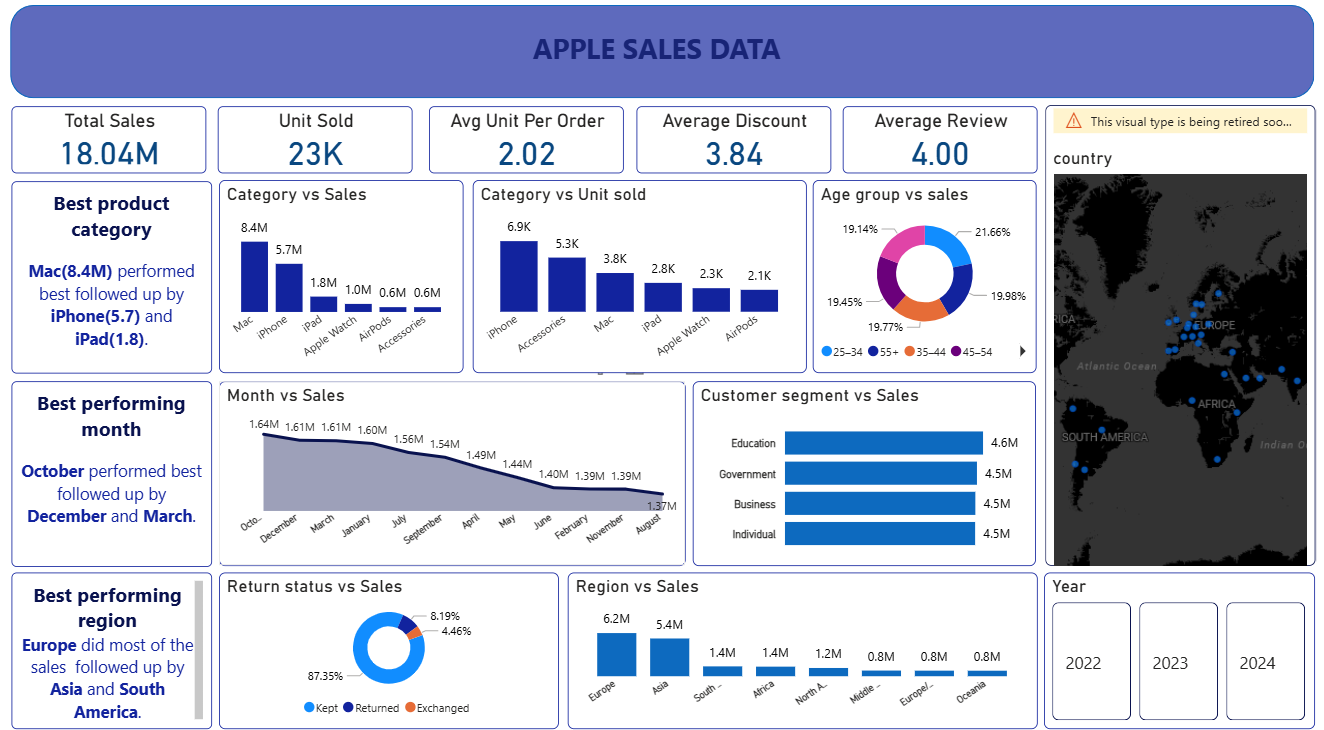

The dashboard page shown, as its layout file describes it:
{"tool":"powerbi","page":{"name":"Page 1","canvas":[1280,720],"ordinal":0},"visuals":[{"type":"card","title":"Total Sales","fields":{"Values":["Sum(apple_global_sales_dataset (1).revenue_usd)"]},"box":[12.2,112.2,187.8,64.4],"z":0},{"type":"textbox","box":[414.4,15.1,441.9,102.9],"z":1000},{"type":"shape","box":[11.2,15,1258.8,90],"z":2000},{"type":"card","title":"Average Review","fields":{"Values":["apple_global_sales_dataset (1).Average_rating"]},"box":[814,112,188,65],"z":3000},{"type":"card","title":"Average Discount","fields":{"Values":["apple_global_sales_dataset (1).Avg_discount"]},"box":[615,111.7,188.3,65],"z":4000},{"type":"card","title":"Unit Sold","fields":{"Values":["Sum(apple_global_sales_dataset (1).units_sold)"]},"box":[211.7,111.7,188.3,65],"z":5000},{"type":"card","title":"Avg Unit Per Order","fields":{"Values":["apple_global_sales_dataset (1).Avg_item_sold"]},"box":[415,111.7,188.3,65],"z":6000},{"type":"clusteredColumnChart","title":"Category vs Sales","fields":{"Category":["apple_global_sales_dataset (1).category"],"Y":["Sum(apple_global_sales_dataset (1).revenue_usd)"]},"box":[211.8,183.6,236.4,186.4],"z":7000},{"type":"clusteredColumnChart","title":"Region vs Sales","fields":{"Category":["apple_global_sales_dataset (1).region"],"Y":["Sum(apple_global_sales_dataset (1).revenue_usd)"]},"box":[548.9,562.2,453.3,151.1],"z":8000},{"type":"donutChart","title":"Age group vs sales","fields":{"Category":["apple_global_sales_dataset (1).customer_age_group"],"Y":["Sum(apple_global_sales_dataset (1).revenue_usd)"]},"box":[785.5,183.6,216.4,186.4],"z":9000},{"type":"areaChart","title":"Month vs Sales","fields":{"Category":["apple_global_sales_dataset (1).month"],"Y":["Sum(apple_global_sales_dataset (1).revenue_usd)"]},"box":[211.8,377.3,450,178.2],"z":10000},{"type":"map","fields":{"Category":["apple_global_sales_dataset (1).country"]},"box":[1009.3,111.4,260.7,445],"z":11000},{"type":"clusteredBarChart","title":"Customer segment vs Sales","fields":{"Category":["apple_global_sales_dataset (1).customer_segment"],"Y":["Sum(apple_global_sales_dataset (1).revenue_usd)"]},"box":[670,377.5,331.2,178.8],"z":12000},{"type":"donutChart","title":"Return status vs Sales","fields":{"Y":["Sum(apple_global_sales_dataset (1).revenue_usd)"],"Category":["apple_global_sales_dataset (1).return_status"]},"box":[212.1,562.1,327.9,151.2],"z":13000},{"type":"clusteredColumnChart","title":"Category vs Unit sold","fields":{"Category":["apple_global_sales_dataset (1).category"],"Y":["Sum(apple_global_sales_dataset (1).units_sold)"]},"box":[457.7,183.8,322.3,186.2],"z":14000},{"type":"advancedSlicerVisual","title":"Year","fields":{"Values":["apple_global_sales_dataset (1).year"]},"box":[1008.8,562.5,261.2,151.2],"z":15000},{"type":"textbox","box":[12.5,184.2,193.3,185.8],"z":16000},{"type":"textbox","box":[12.5,377.5,193.3,179.2],"z":17000},{"type":"textbox","box":[12.5,562.5,193.3,150.8],"z":17001}]}

Visuals, with their boxes in screenshot pixels (x1, y1, x2, y2), scaled from the page's 1280x720 canvas onto the 1324x730 screenshot:
"Total Sales" card: locate(13, 114, 207, 179)
textbox: locate(429, 15, 886, 120)
shape: locate(12, 15, 1314, 106)
"Average Review" card: locate(842, 114, 1036, 179)
"Average Discount" card: locate(636, 113, 831, 179)
"Unit Sold" card: locate(219, 113, 414, 179)
"Avg Unit Per Order" card: locate(429, 113, 624, 179)
"Category vs Sales" clusteredColumnChart: locate(219, 186, 464, 375)
"Region vs Sales" clusteredColumnChart: locate(568, 570, 1037, 723)
"Age group vs sales" donutChart: locate(813, 186, 1036, 375)
"Month vs Sales" areaChart: locate(219, 383, 685, 563)
map - apple_global_sales_dataset (1).country: locate(1044, 113, 1314, 564)
"Customer segment vs Sales" clusteredBarChart: locate(693, 383, 1036, 564)
"Return status vs Sales" donutChart: locate(219, 570, 559, 723)
"Category vs Unit sold" clusteredColumnChart: locate(473, 186, 807, 375)
"Year" advancedSlicerVisual: locate(1043, 570, 1314, 724)
textbox: locate(13, 187, 213, 375)
textbox: locate(13, 383, 213, 564)
textbox: locate(13, 570, 213, 723)
